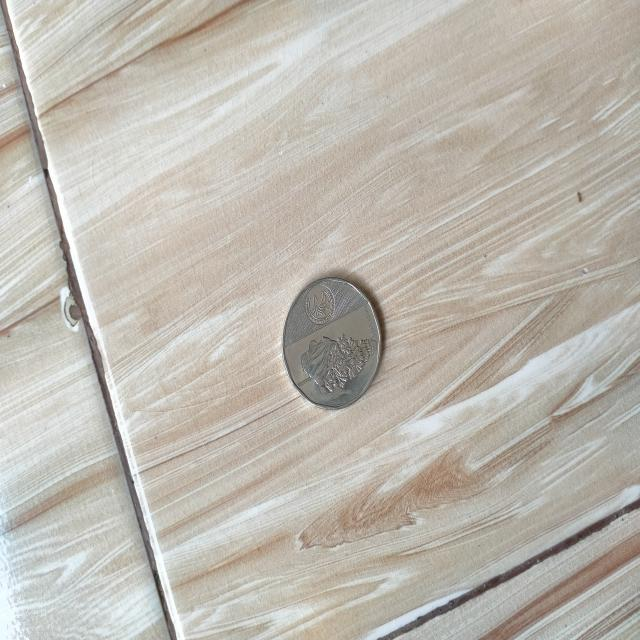10_New_Back: (295, 323, 384, 406)
